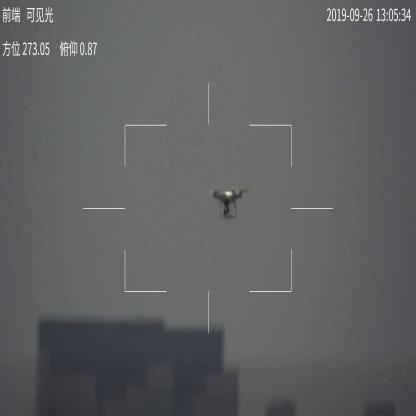uav: (210, 187, 249, 218)
